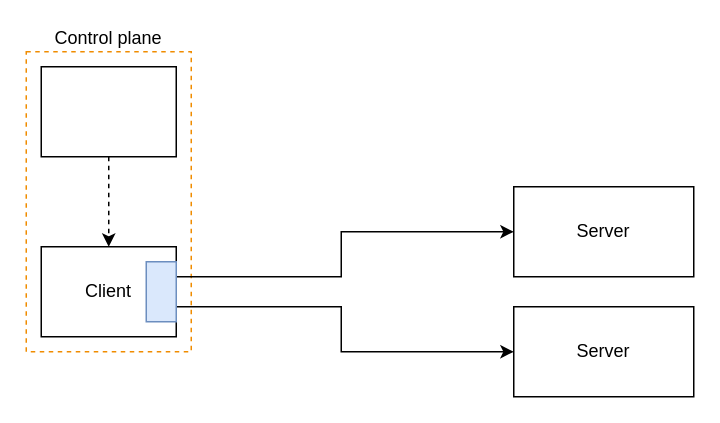
Image size: 720x423. Some labels were removed from this diagram. Here are the shapes that lost their labels. From the top down, the centre of each, then its label:
At point 108,111: "Updater".
At point 160,291: "Proxy".
